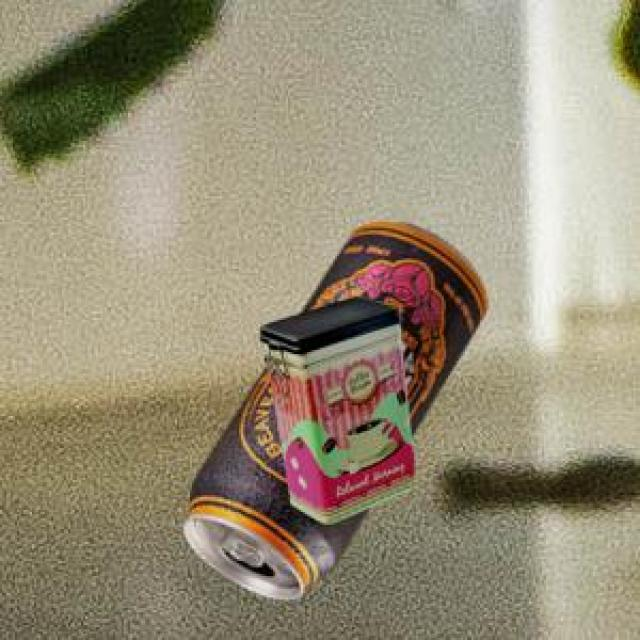Can: (180, 221, 485, 596), (257, 293, 413, 519)
